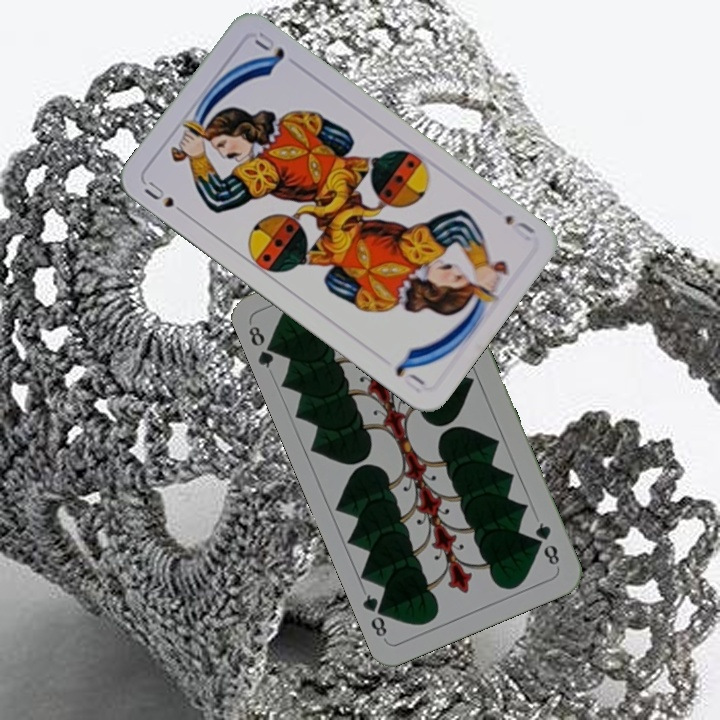G8: (244, 321, 282, 371), (531, 518, 562, 568)
SU: (140, 177, 192, 219), (500, 211, 538, 244)
